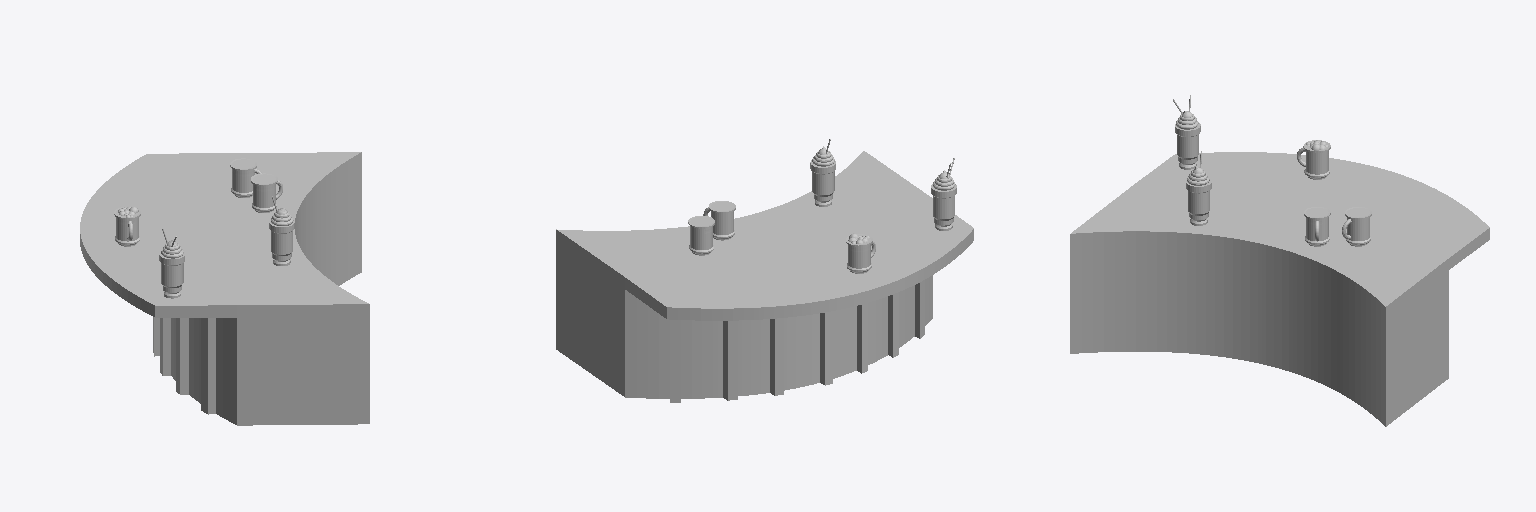
Rendered from bar.obj.
The picture shows the model from 3 angles: view 1: azimuth 30°, elevation 25°; view 2: azimuth 150°, elevation 25°; view 3: azimuth 270°, elevation 25°; orthographic projection.
Parts seen in each view (by area): view 1: Cube.000_Cube.005, Torus.000_Torus.002, Torus.001, Cylinder, Cylinder.001, Cylinder.002_Cylinder.004; view 2: Cube.000_Cube.005, Torus.000_Torus.002, Torus.001, Cylinder.001, Cylinder, Cylinder.002_Cylinder.004; view 3: Cube.000_Cube.005, Torus.000_Torus.002, Torus.001, Cylinder.001, Cylinder, Cylinder.002_Cylinder.004.
Part boxes in pixels (x1,y1,x2,y2): Cube.000_Cube.005: (80, 152, 369, 425); Torus.000_Torus.002: (159, 229, 184, 298); Torus.001: (269, 196, 294, 265); Cylinder: (251, 173, 282, 212); Cylinder.001: (230, 158, 261, 197); Cylinder.002_Cylinder.004: (114, 207, 140, 246); Cube.000_Cube.005: (556, 151, 973, 402); Torus.000_Torus.002: (931, 158, 956, 230); Torus.001: (810, 139, 835, 206); Cylinder.001: (688, 216, 714, 255); Cylinder: (703, 201, 735, 240); Cylinder.002_Cylinder.004: (846, 234, 875, 273); Cube.000_Cube.005: (1070, 152, 1489, 426); Torus.000_Torus.002: (1173, 95, 1200, 169); Torus.001: (1186, 151, 1211, 225); Cylinder.001: (1342, 207, 1371, 246); Cylinder: (1304, 207, 1330, 246); Cylinder.002_Cylinder.004: (1297, 140, 1330, 179).
Bounding box in the file's own units: 5.53 × 3.12 × 6.33.